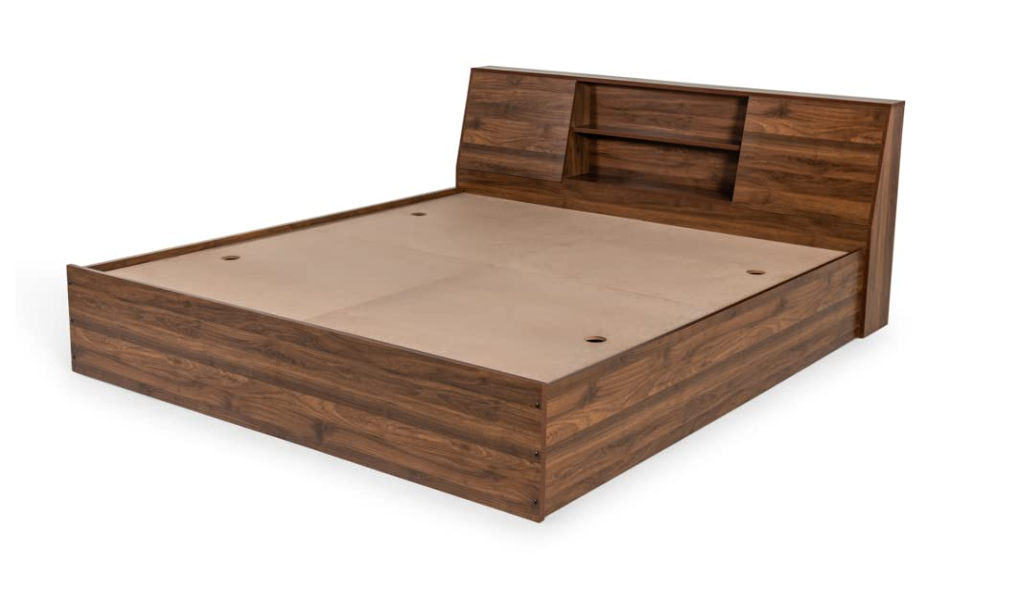cot: (64, 28, 908, 525)
